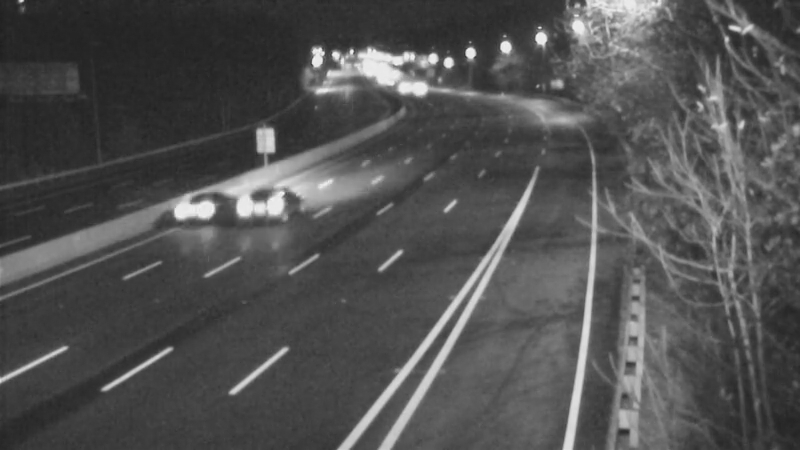vehicle: (229, 168, 309, 248), (152, 166, 232, 246), (377, 60, 427, 110), (395, 61, 445, 111)
